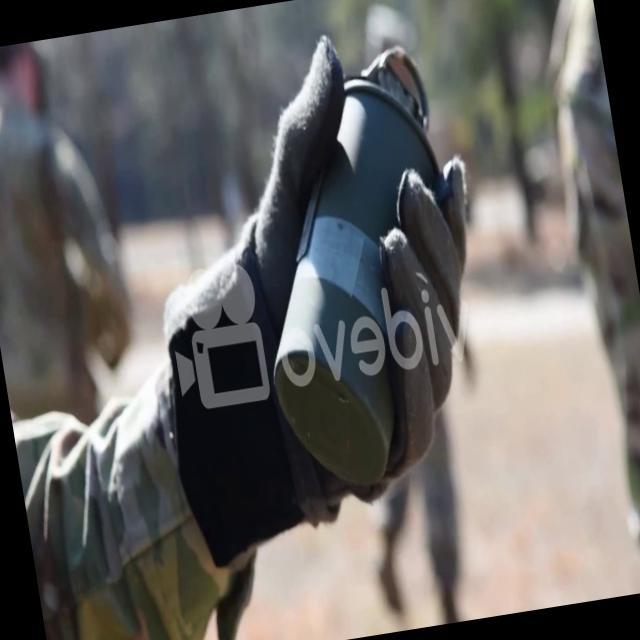grenade: (224, 40, 486, 494)
